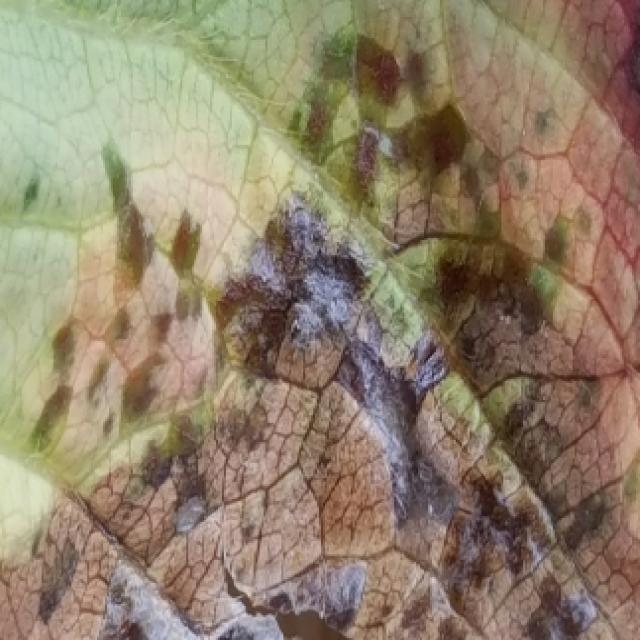Angular Leafspot: (0, 0, 640, 640)
